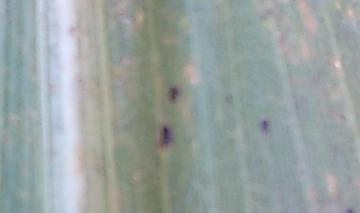tarspot: (157, 125, 174, 150), (166, 86, 180, 105), (258, 119, 271, 135), (345, 207, 354, 213)
